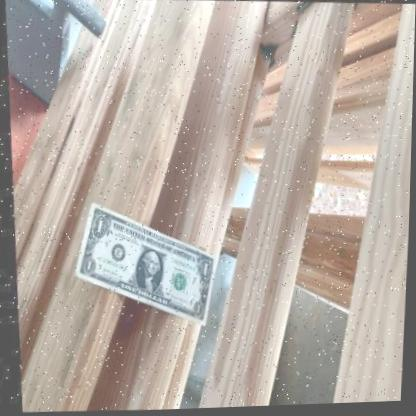one-front: (70, 202, 213, 327)
